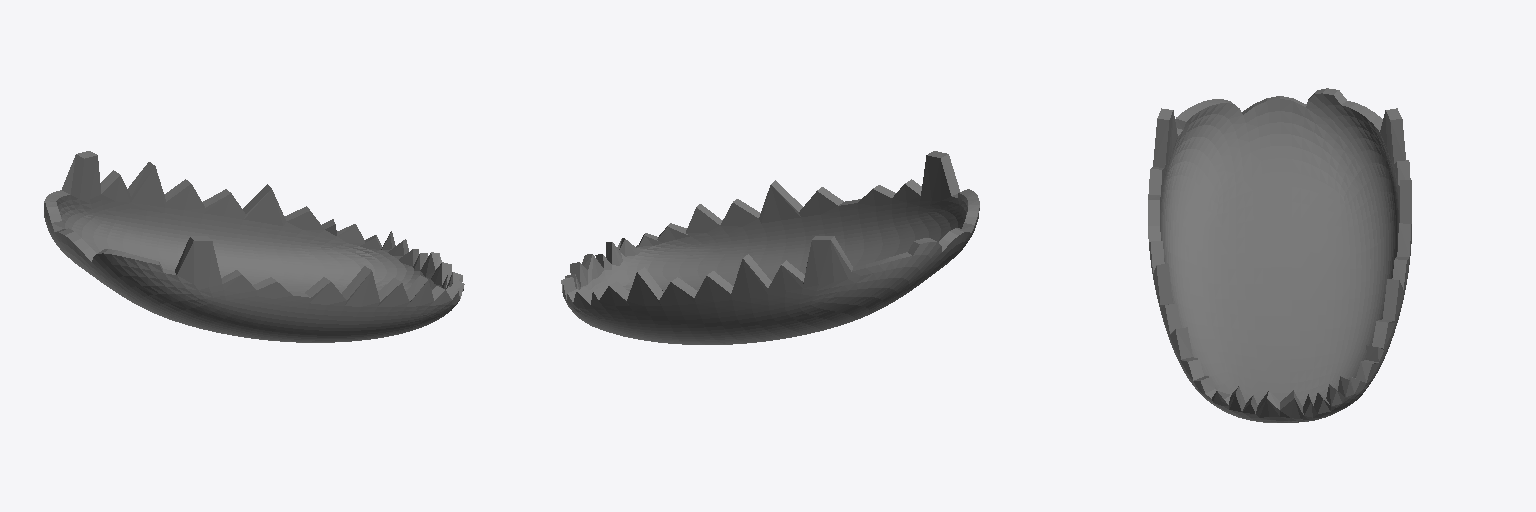
Rendered from MandibulaGoddard_obj.obj.
3 views of the same model, side by side, from view 1: azimuth 30°, elevation 25°; view 2: azimuth 150°, elevation 25°; view 3: azimuth 270°, elevation 25° (orthographic).
Visible parts, largest first — view 1: Mandibula; view 2: Mandibula; view 3: Mandibula.
Part boxes in pixels (x1,y1,x2,y2): Mandibula: (44,151,464,342); Mandibula: (561,151,979,344); Mandibula: (1148,88,1411,422).
Size of the model in its own units: 2.68 by 1.19 by 1.61.